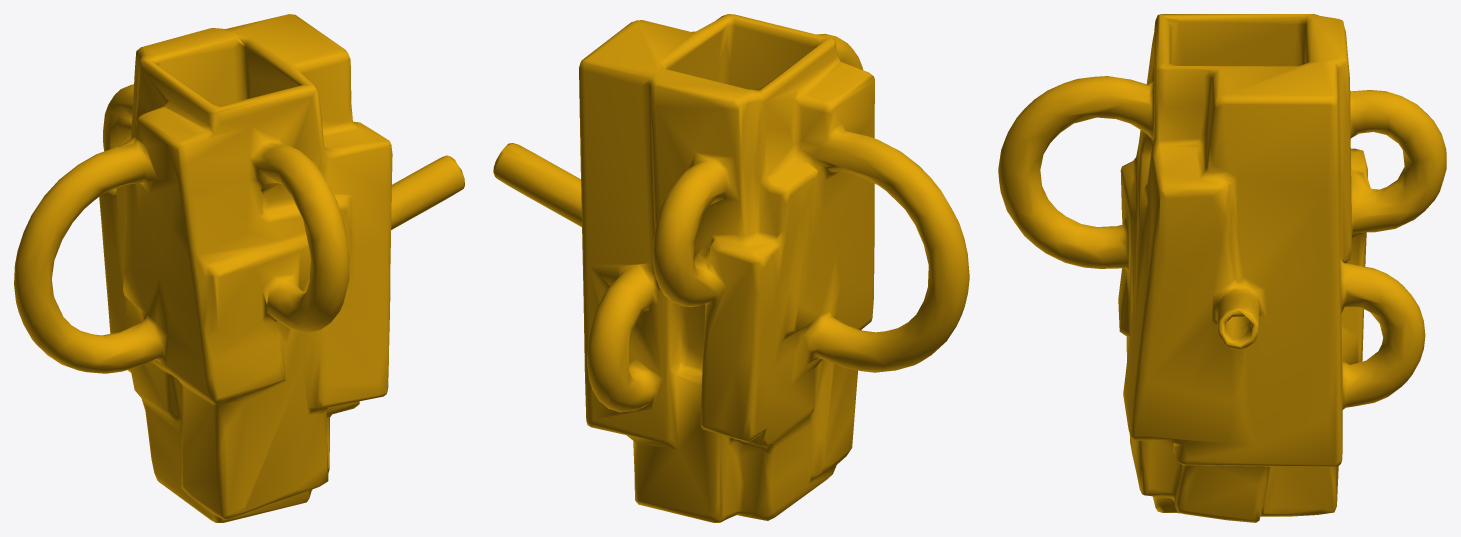
The model's file is blocky-teapot.glb.
3 views of the same model, side by side, from view 1: azimuth 30°, elevation 25°; view 2: azimuth 150°, elevation 25°; view 3: azimuth 270°, elevation 25° (orthographic). The views are drawn at different scales.
Visible parts, largest first — view 1: blockyteapot_low; view 2: blockyteapot_low; view 3: blockyteapot_low.
Boxes of the visible parts, box(x1,y1,x2,y2) form: blockyteapot_low: box(14, 14, 464, 522); blockyteapot_low: box(493, 14, 969, 522); blockyteapot_low: box(998, 14, 1446, 522).
Size of the model in its own units: 1.53 by 1.37 by 1.23.
